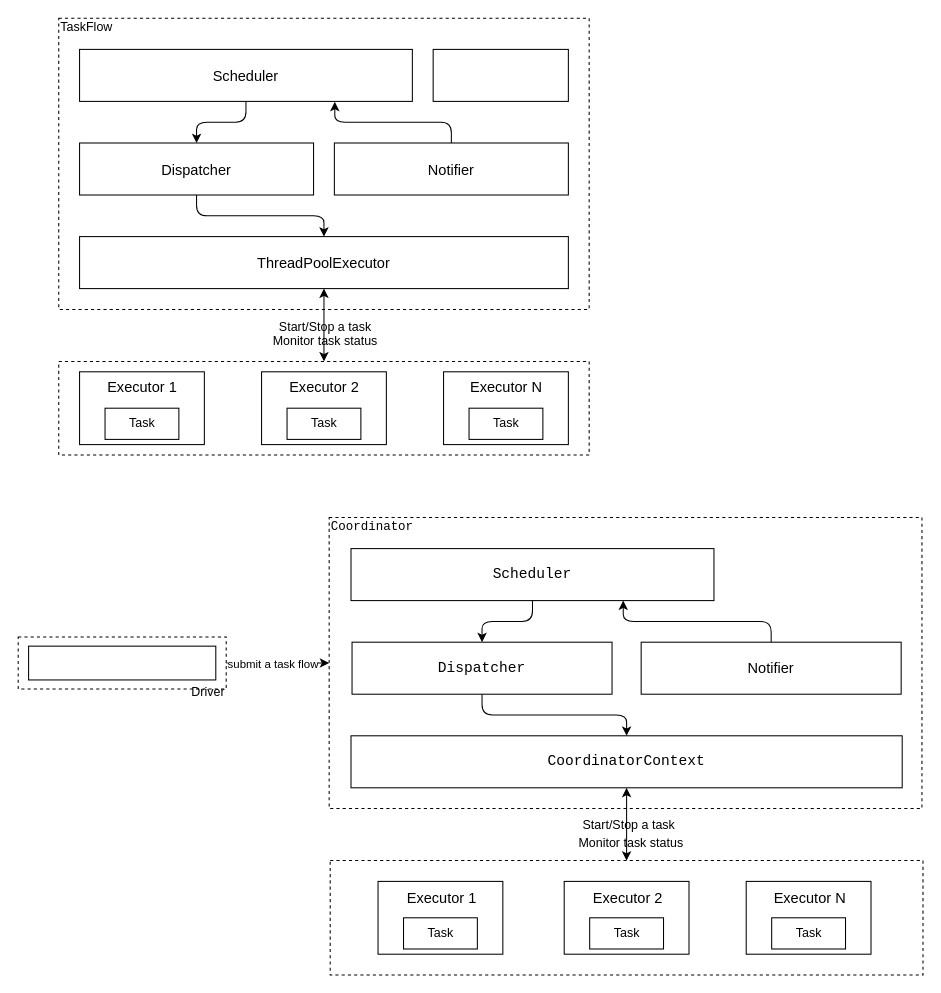
Some shapes in this 941 by 993 pixel diagram are drawn without their labels. The shapes that lost their labels are listed below. From the top down, each one's centre as x and y in pixels, then its label:
At (x=500, y=74): "TaskFlowContext".
At (x=122, y=662): "Client".
